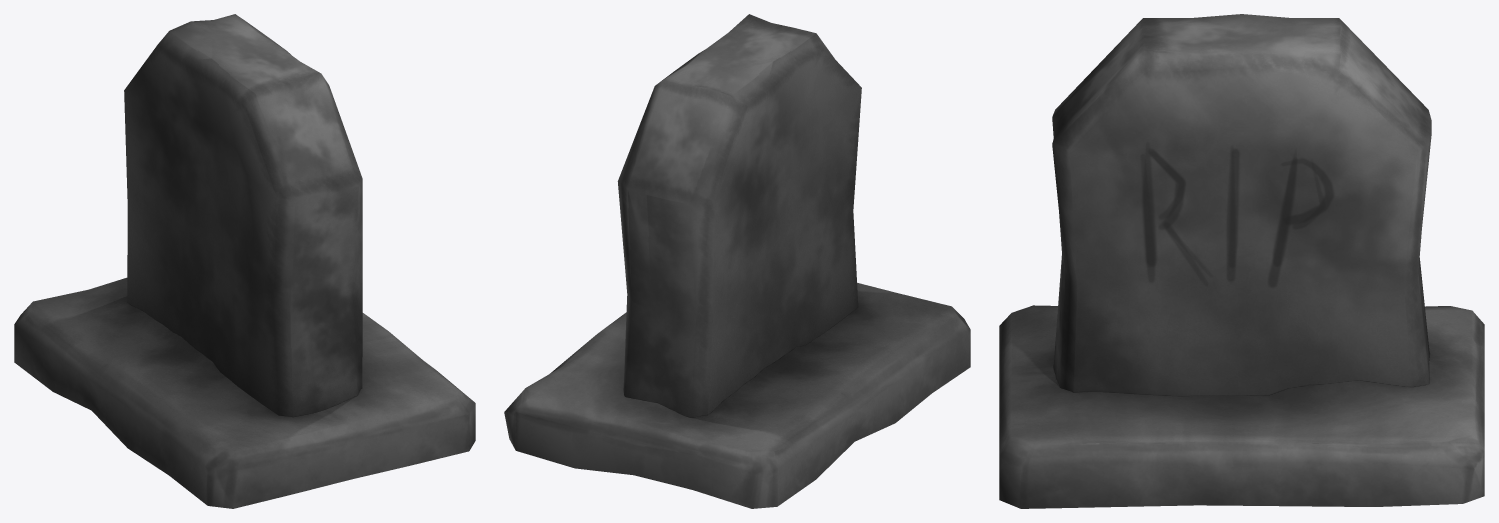
File: tomb1.fbx
3 views of the same model, side by side, from view 1: azimuth 30°, elevation 25°; view 2: azimuth 150°, elevation 25°; view 3: azimuth 270°, elevation 25° (orthographic). The views are drawn at different scales.
Parts seen in each view (by area): view 1: Cube.001, Cube; view 2: Cube.001, Cube; view 3: Cube.001, Cube.
Boxes of the visible parts, x1,y1,x2,y2 form: Cube.001: (124,14,362,417); Cube: (14,277,475,508); Cube.001: (617,14,861,417); Cube: (504,282,970,508); Cube.001: (1052,14,1431,396); Cube: (999,305,1484,508).
Bounding box in the file's own units: 155 × 192 × 211.
